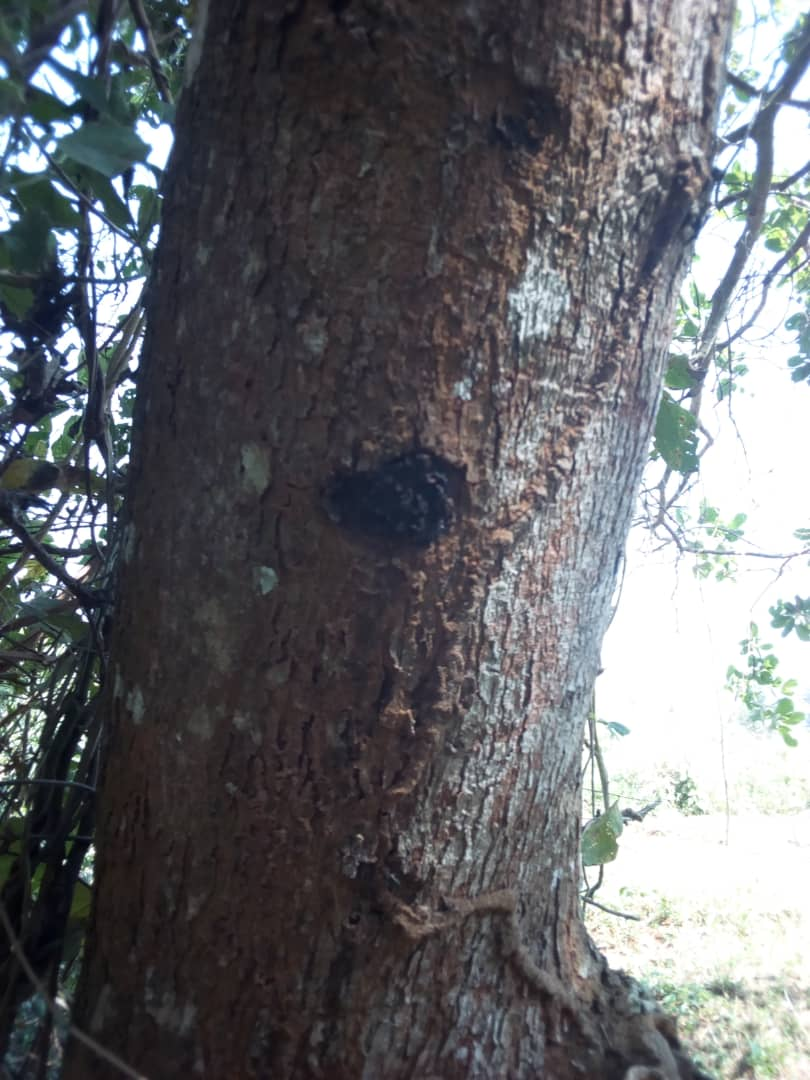Termites: (216, 7, 546, 1063)
